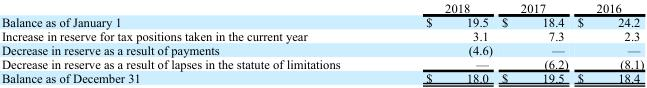table: (0, 1, 643, 84)
table column: (0, 1, 382, 84), (382, 1, 496, 84), (496, 1, 572, 84), (572, 1, 643, 84)
table column header: (0, 1, 643, 15)
table row: (0, 1, 643, 15), (0, 28, 643, 42), (0, 42, 643, 56), (0, 56, 643, 70), (0, 70, 643, 84), (0, 15, 643, 28)
